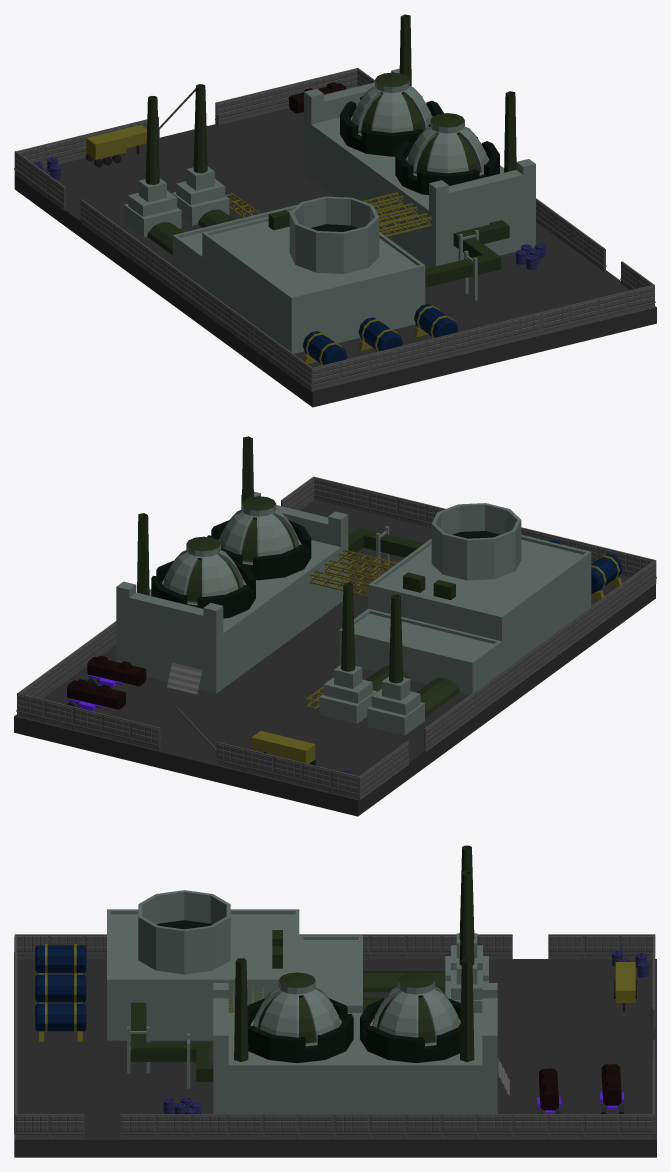
The model's file is LargeES.FBX.
3 views of the same model, one above another, from view 1: azimuth 30°, elevation 25°; view 2: azimuth 150°, elevation 25°; view 3: azimuth 270°, elevation 25° (orthographic). The views are drawn at different scales.
Visible parts, largest first — view 1: LargeES; view 2: LargeES; view 3: LargeES.
Boxes of the visible parts, bbox=[...] form: LargeES: bbox=[14, 14, 656, 407]; LargeES: bbox=[14, 436, 656, 816]; LargeES: bbox=[14, 845, 656, 1157].
Size of the model in its own units: 20082 by 9059 by 30016.
